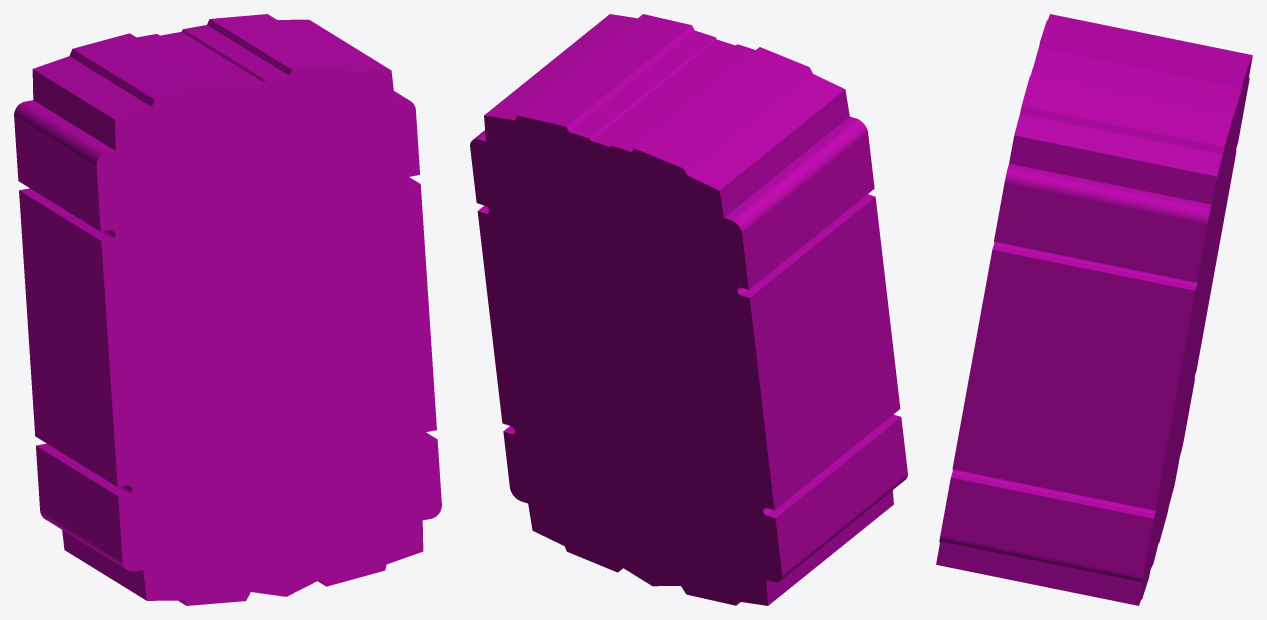
The model's file is POWER ARCHITECTURE__ELEC BOARD COMPONENTS__COTEK SP-3000 (3000W) inverter.glb.
3 views of the same model, side by side, from view 1: azimuth 30°, elevation 25°; view 2: azimuth 150°, elevation 25°; view 3: azimuth 270°, elevation 25° (orthographic). The views are drawn at different scales.
Visible parts, largest first — view 1: COTEK SP-3000 (3000W) inverter; view 2: COTEK SP-3000 (3000W) inverter; view 3: COTEK SP-3000 (3000W) inverter.
Part boxes in pixels (x1,y1,x2,y2): COTEK SP-3000 (3000W) inverter: [14, 14, 441, 605]; COTEK SP-3000 (3000W) inverter: [470, 14, 907, 605]; COTEK SP-3000 (3000W) inverter: [936, 14, 1252, 605].
Bounding box in the file's own units: 0.2784 × 0.4198 × 0.2416.
